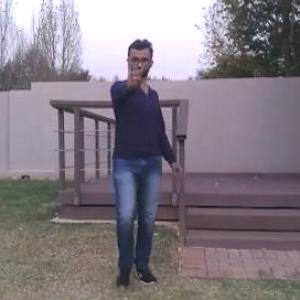takeoff-hand: (119, 54, 155, 95)
